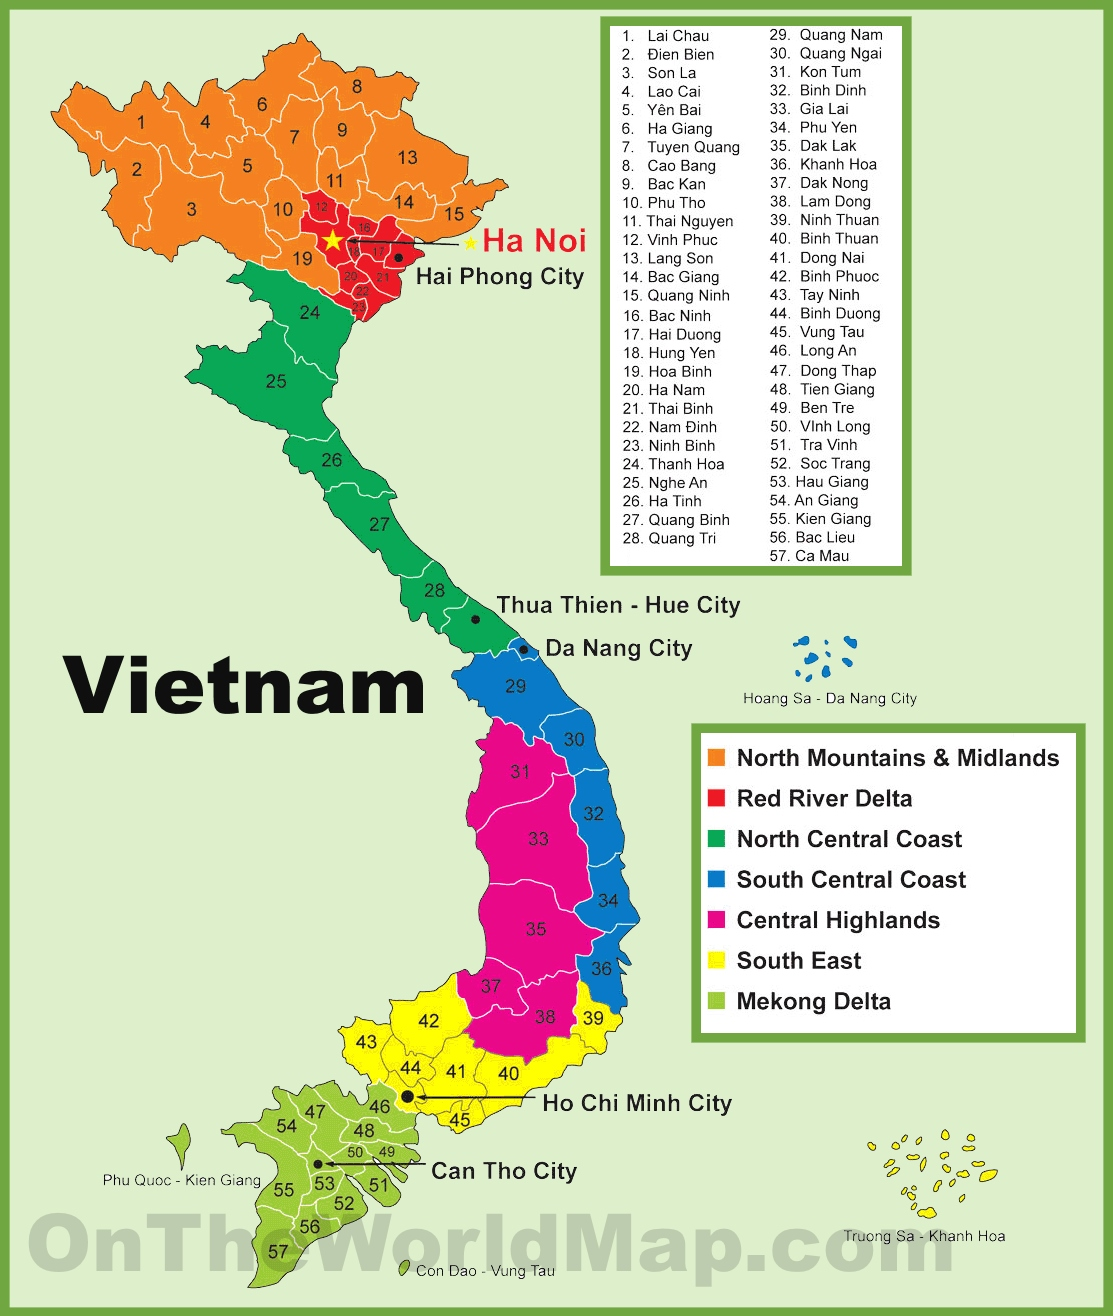Island: (837, 1122, 1017, 1252), (741, 628, 925, 724)
